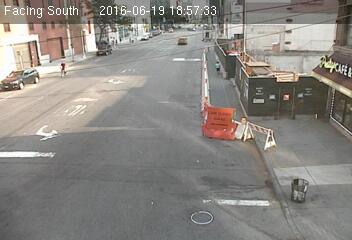neg: (34, 122, 65, 164), (158, 163, 187, 201), (269, 167, 296, 203)
pos: (55, 58, 69, 78), (212, 59, 225, 76)
